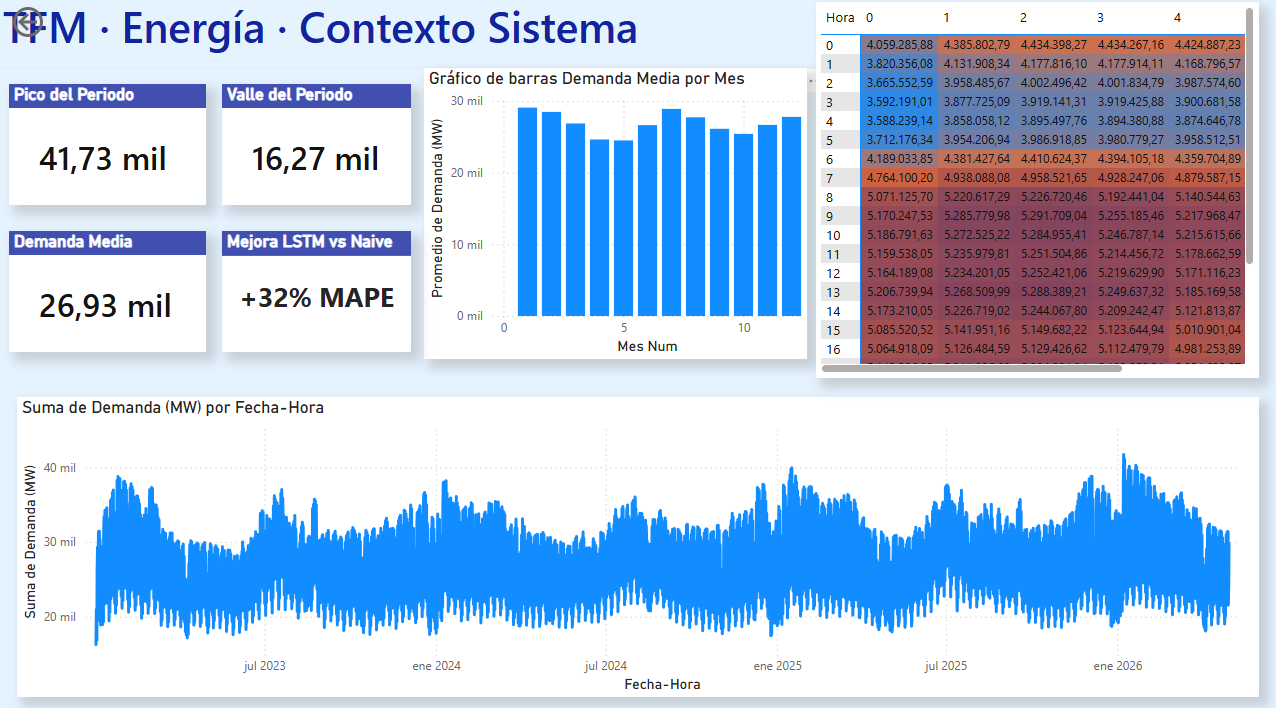

This screenshot's page, from the dashboard's own definition file:
{"tool":"powerbi","page":{"name":"3. Contexto Sistema","canvas":[1280,720],"ordinal":2},"visuals":[{"type":"textbox","box":[0,0,825.8,75.9],"z":0},{"type":"cardVisual","title":"Pico del Periodo","fields":{"Data":["Max(demanda_historica.Demanda (MW))"]},"box":[11,92,197,121],"z":1000},{"type":"cardVisual","title":"Valle del Periodo","fields":{"Data":["Min(demanda_historica.Demanda (MW))"]},"box":[224,92,189,121],"z":2000},{"type":"actionButton","box":[10,10,100,40],"z":3000},{"type":"cardVisual","title":"Demanda Media","fields":{"Data":["Avg(demanda_historica.Demanda (MW))"]},"box":[11,239,197,121],"z":4000},{"type":"columnChart","title":"Gráfico de barras Demanda Media por Mes","fields":{"Category":["demanda_historica.Mes Num"],"Y":["Avg(demanda_historica.Demanda (MW))"]},"box":[426,76,383,291],"z":5000},{"type":"textbox","title":"Mejora LSTM vs Naive","box":[224,239,189,121],"z":6000},{"type":"lineChart","fields":{"Y":["Sum(demanda_historica.Demanda (MW))"],"Category":["demanda_historica.Fecha-Hora"]},"box":[19,405,1242,300],"z":7000},{"type":"pivotTable","fields":{"Rows":["demanda_historica.Hora"],"Columns":["demanda_historica.Día Semana Num"],"Values":["Sum(demanda_historica.Demanda (MW))"]},"box":[818,10,443,376],"z":8000}]}

Visuals, with their boxes in screenshot pixels (x1, y1, x2, y2), scaled from the page's 1280x720 canvas onto the 1276x708 screenshot:
textbox: bbox(0, 0, 823, 75)
"Pico del Periodo" cardVisual: bbox(11, 90, 207, 209)
"Valle del Periodo" cardVisual: bbox(223, 90, 412, 209)
actionButton: bbox(10, 10, 110, 49)
"Demanda Media" cardVisual: bbox(11, 235, 207, 354)
"Gráfico de barras Demanda Media por Mes" columnChart: bbox(425, 75, 806, 361)
"Mejora LSTM vs Naive" textbox: bbox(223, 235, 412, 354)
lineChart - Sum(demanda_historica.Demanda (MW)) x demanda_historica.Fecha-Hora: bbox(19, 398, 1257, 693)
pivotTable - demanda_historica.Hora x demanda_historica.Día Semana Num: bbox(815, 10, 1257, 380)
